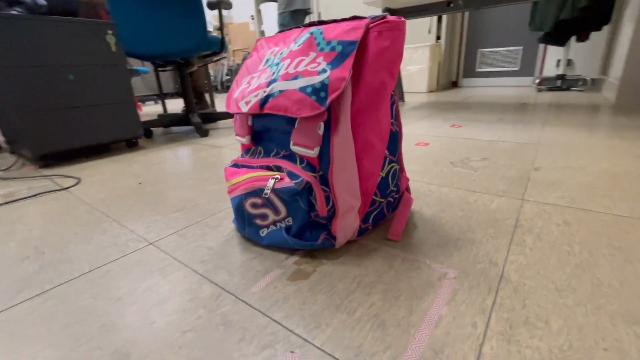Backpack: (212, 8, 424, 268)
